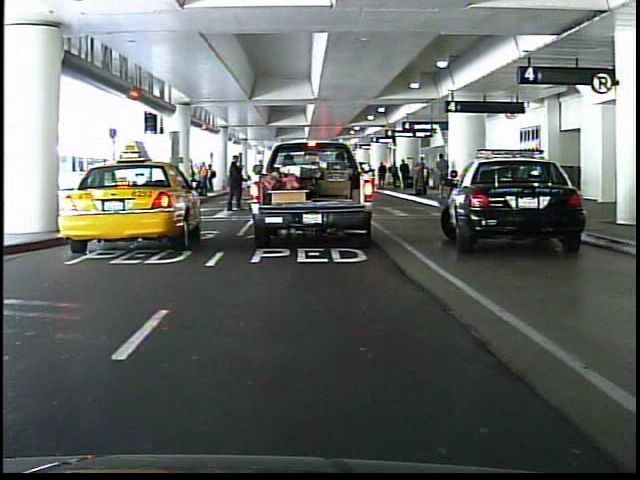person: (216, 153, 245, 214), (283, 145, 306, 203)
